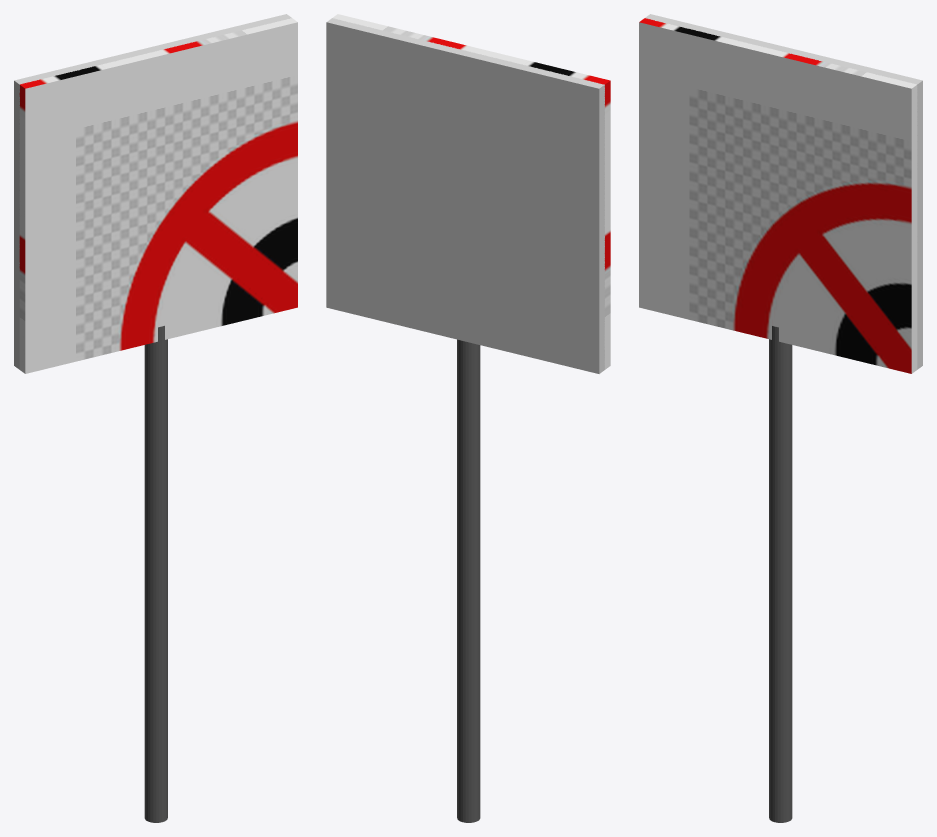
Rendered from teknofest_sign_saga_donulmez.fbx.
3 views of the same model, side by side, from view 1: azimuth 30°, elevation 25°; view 2: azimuth 150°, elevation 25°; view 3: azimuth 330°, elevation 25° (orthographic).
Visible parts, largest first — view 1: teknofest_sign_saga_donulmez_board, teknofest_sign_saga_donulmez_pole, teknofest_sign_saga_donulmez_back; view 2: teknofest_sign_saga_donulmez_back, teknofest_sign_saga_donulmez_pole, teknofest_sign_saga_donulmez_board; view 3: teknofest_sign_saga_donulmez_board, teknofest_sign_saga_donulmez_pole, teknofest_sign_saga_donulmez_back.
Boxes of the visible parts, box(x1,y1,x2,y2) form: teknofest_sign_saga_donulmez_board: box(19, 18, 297, 373); teknofest_sign_saga_donulmez_pole: box(144, 325, 167, 822); teknofest_sign_saga_donulmez_back: box(14, 14, 291, 369); teknofest_sign_saga_donulmez_back: box(326, 18, 604, 373); teknofest_sign_saga_donulmez_pole: box(457, 339, 480, 822); teknofest_sign_saga_donulmez_board: box(333, 14, 610, 369); teknofest_sign_saga_donulmez_board: box(639, 18, 917, 373); teknofest_sign_saga_donulmez_pole: box(769, 325, 792, 822); teknofest_sign_saga_donulmez_back: box(645, 14, 922, 369).
Bounding box in the file's own units: 95 × 255 × 7.05.
3 materials, 1 textured.
